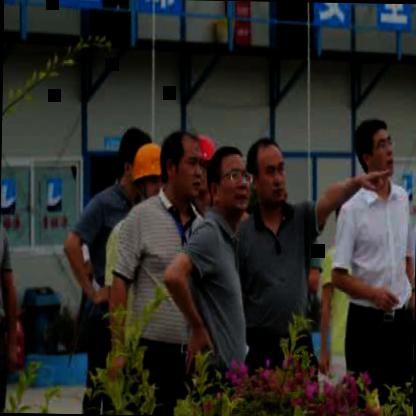head: (244, 132, 289, 214), (162, 126, 204, 205), (350, 112, 396, 181), (208, 142, 250, 216), (114, 126, 148, 190)
helmet: (125, 139, 165, 209)
